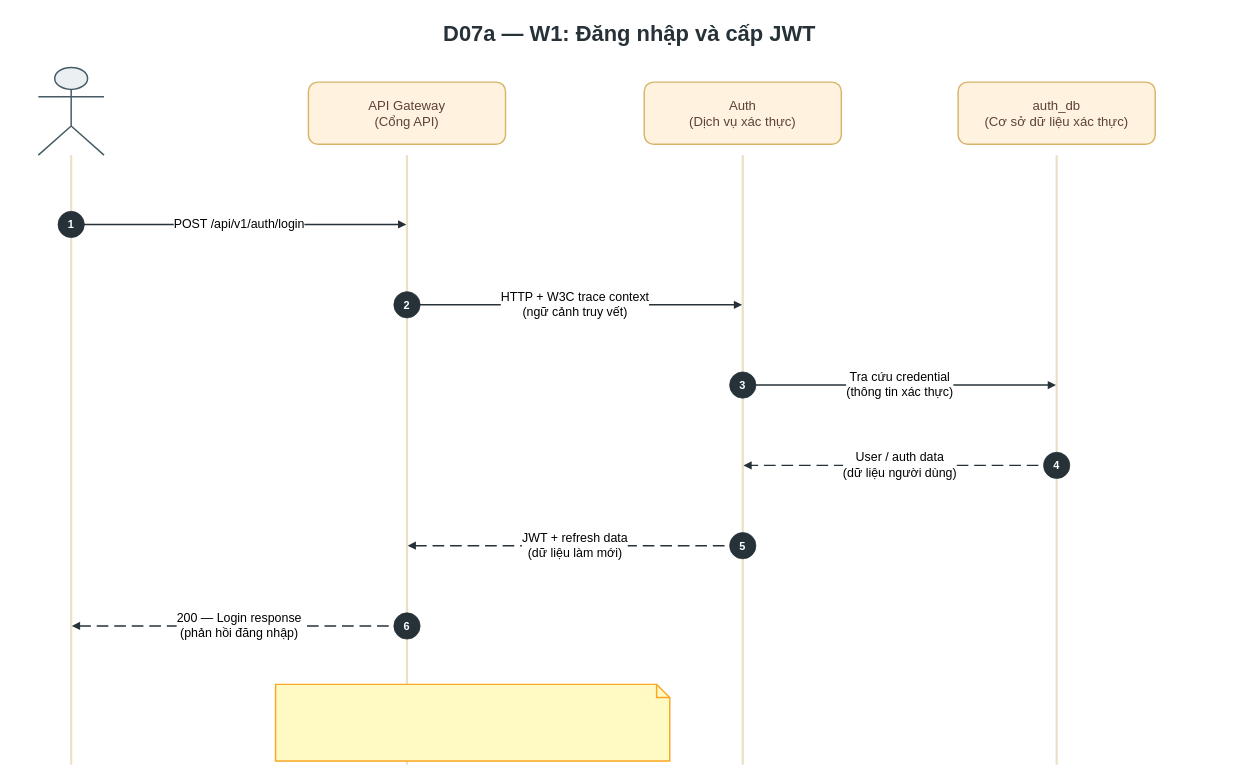
Some shapes in this 1259 by 777 pixel diagram are drawn without their labels. Each missing label, with the centre of its shape:
"Client (Máy khách)" goes at (70,110).
"Sau đăng nhập, API Gateway kiểm tra JWT cục bộ cho các request nghiệp vụ." goes at (472,722).
